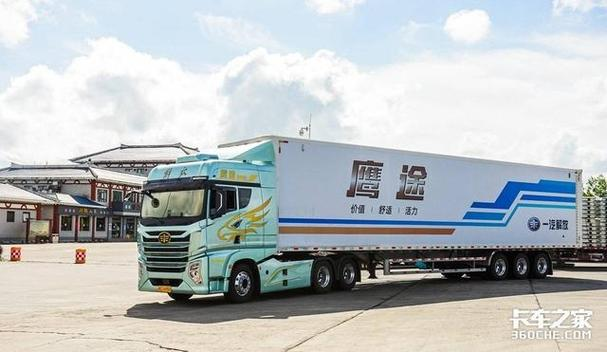卡车: (128, 133, 593, 300)
